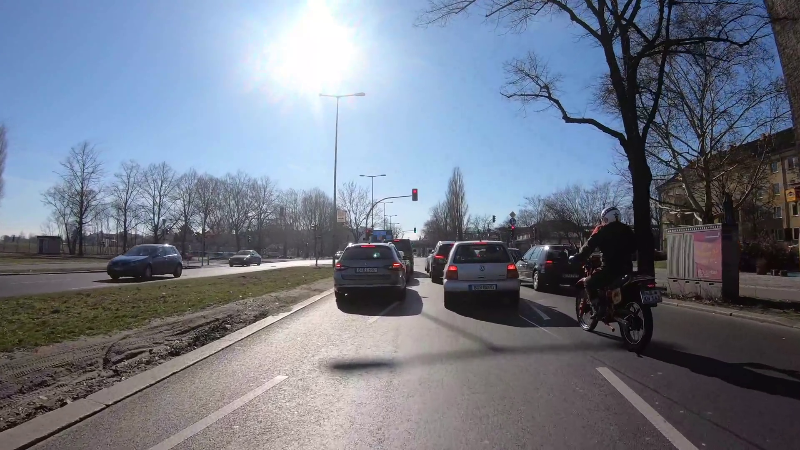Plate: (353, 265, 379, 275), (468, 283, 497, 291)
